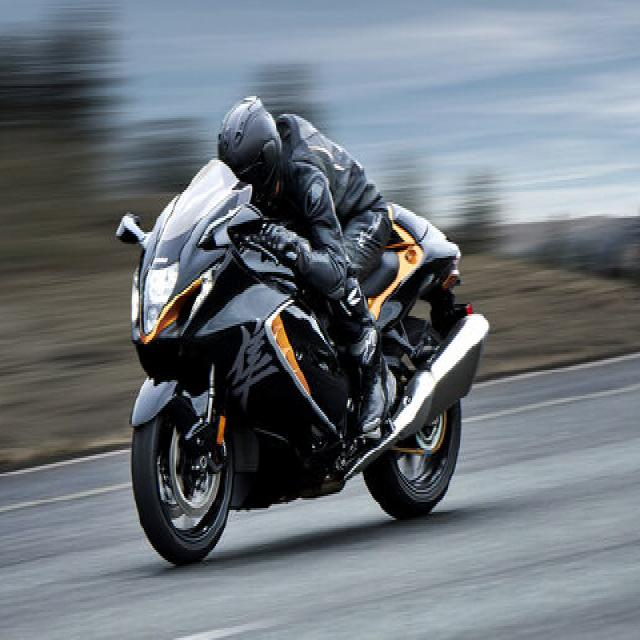Bike: (116, 160, 491, 568)
